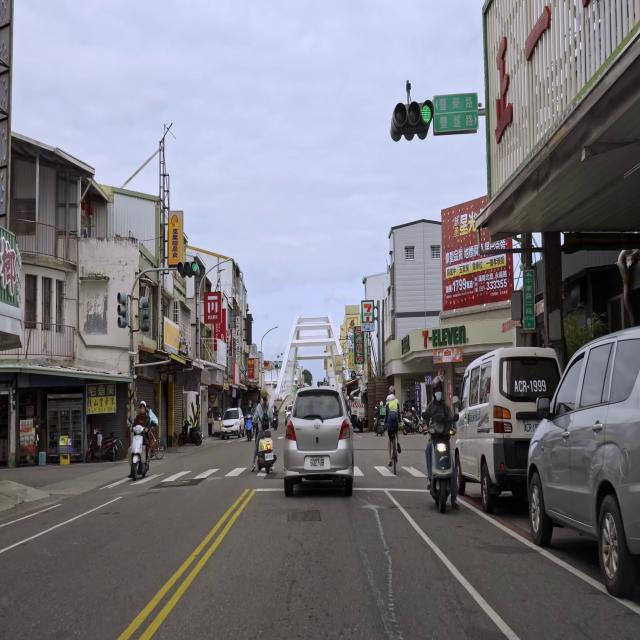green light: (392, 102, 433, 126), (176, 262, 198, 273)
